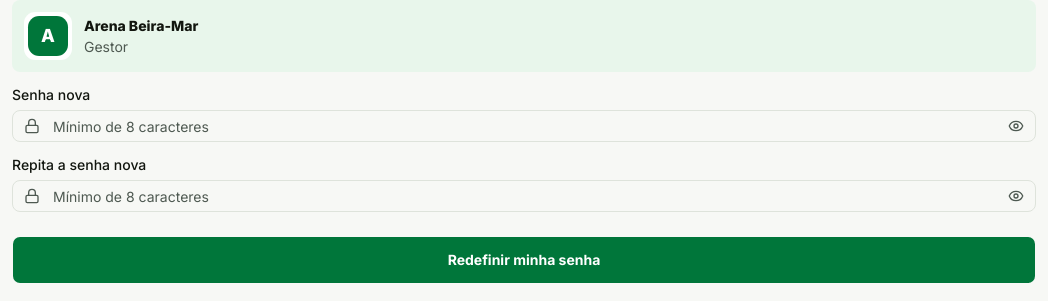
Test case: RedefinirSenhaForm (SPEC-090/AC-025) › 204: manda a senha da conta e vai para o login com o aviso; o POST sai sem Referer
Type "senha-nova-123" into the password field labelled "Senha nova". click: point(524, 126)
box: top-left (12, 110), bottom-right (1036, 142)
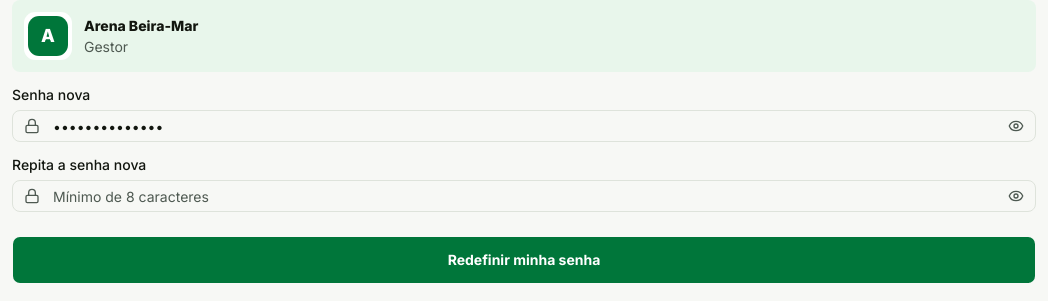
Type "senha-nova-123" into the password field labelled "Repita a senha nova". click: point(524, 196)
box: top-left (12, 180), bottom-right (1036, 212)
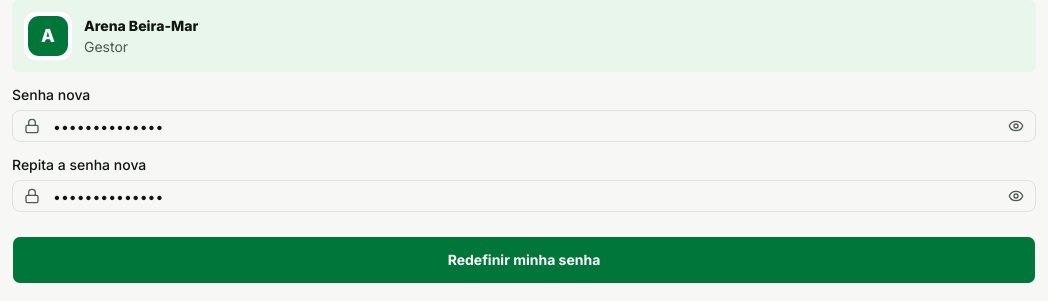
Click the button "Redefinir minha senha". click: point(524, 260)
box: top-left (12, 236), bottom-right (1036, 284)
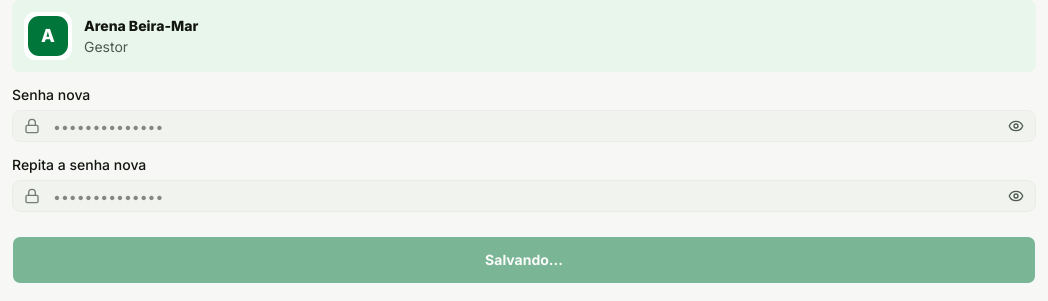
Expected: the button "Salvando..." is disabled, top-left (12, 236), bottom-right (1036, 284)
